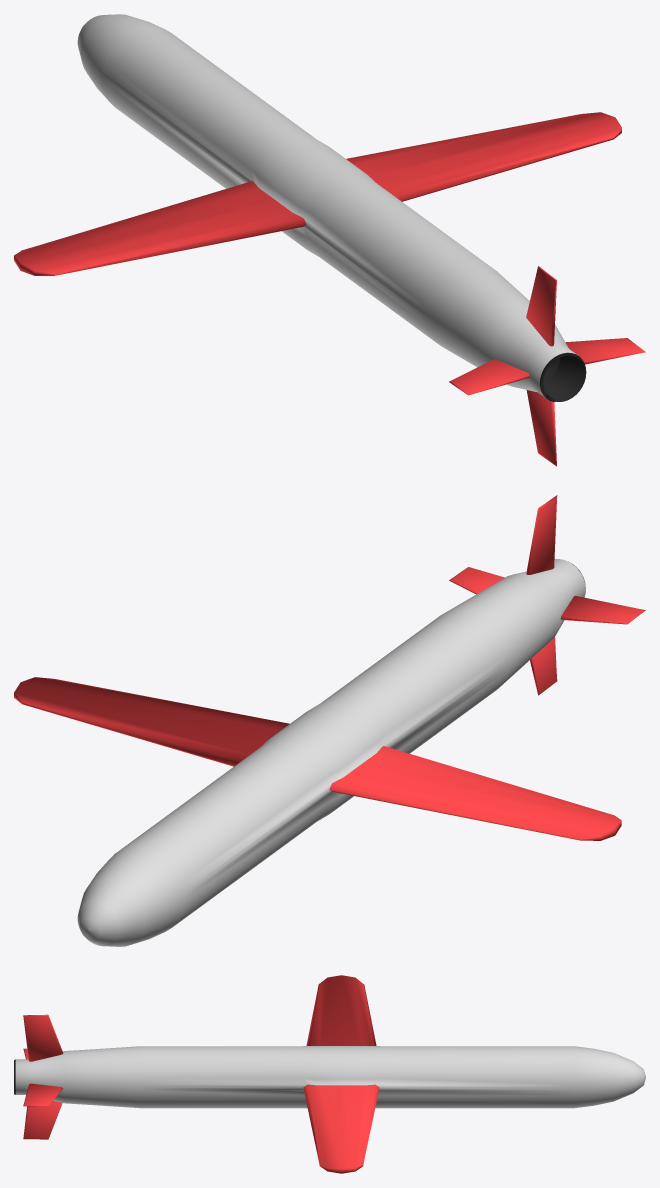
File: Tomahawk Missile.gltf
The picture shows the model from 3 angles, top to bottom: view 1: azimuth 30°, elevation 25°; view 2: azimuth 150°, elevation 25°; view 3: azimuth 270°, elevation 25°; orthographic projection. The views are drawn at different scales.
Parts seen in each view (by area): view 1: node-0; view 2: node-0; view 3: node-0.
Part boxes in pixels (x1=…): node-0: x1=14, y1=14, x2=645, y2=466; node-0: x1=14, y1=495, x2=645, y2=946; node-0: x1=14, y1=975, x2=645, y2=1173.
Bounding box in the file's own units: 14.69 × 4.43 × 20.33.
